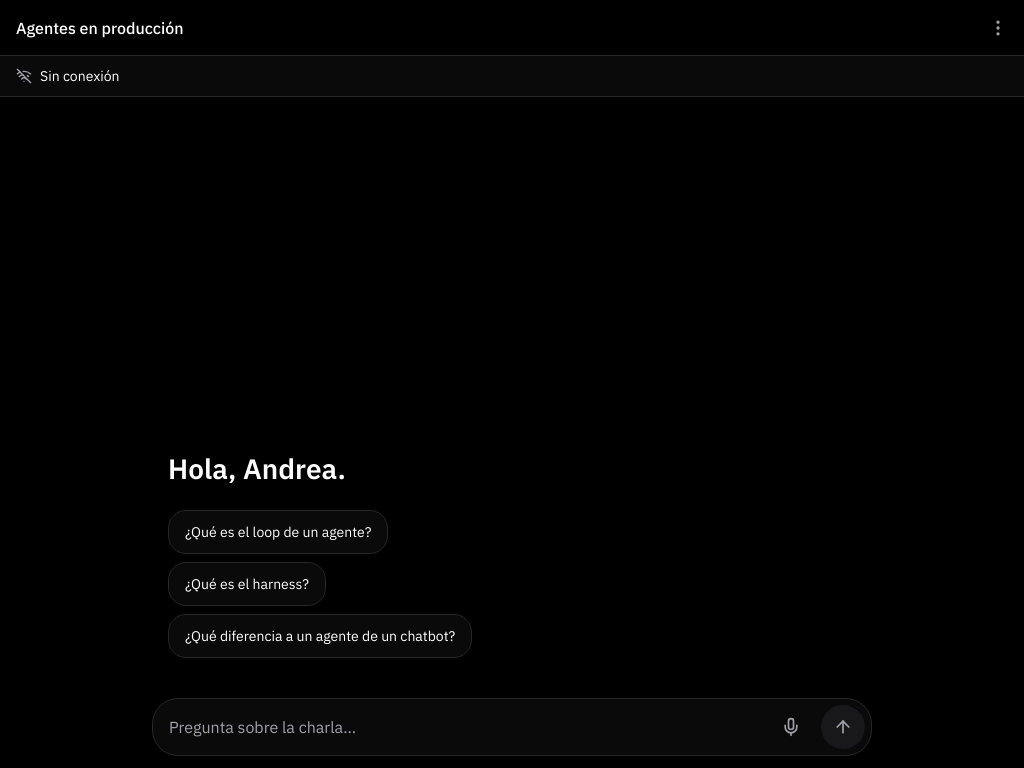
Chat: estados de error › sin conexión → banner; al volver la conexión reenvía la pregunta
Expected: the text "Sin conexión" is shown, [40,66,120,86]
Type "¿Sigues ahí?" into the text box with placeholder "Pregunta sobre la charla…" at (465, 727), box [169,707,761,747]
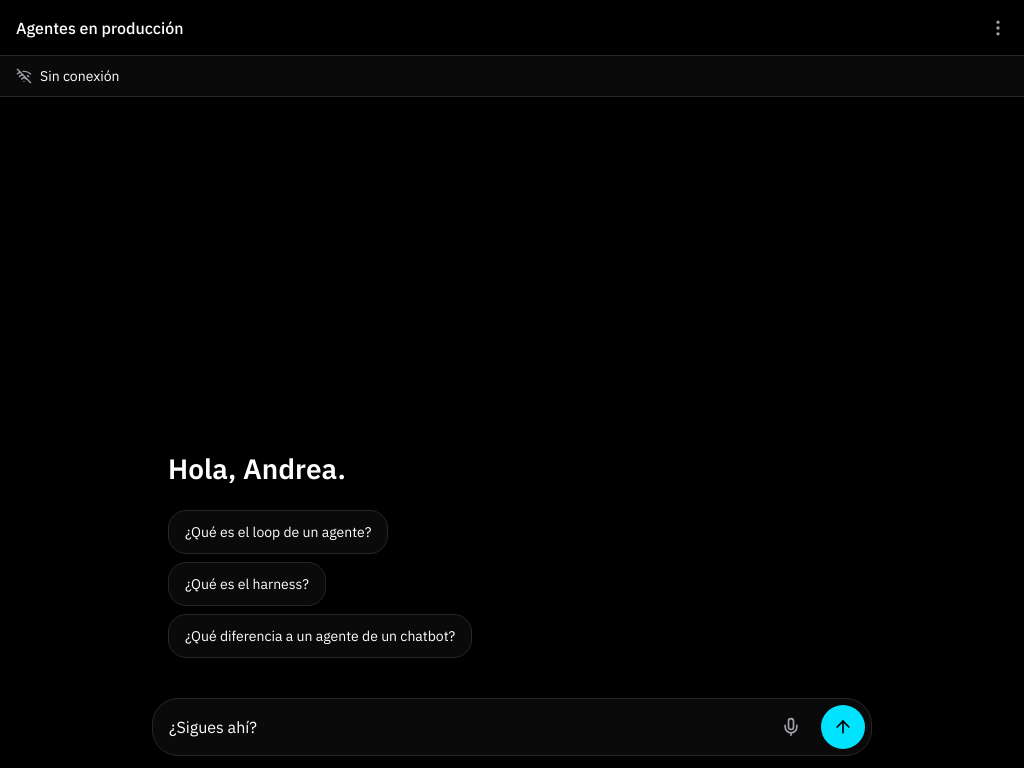
Click the button named "Enviar" at (843, 727), box [821,705,865,749]
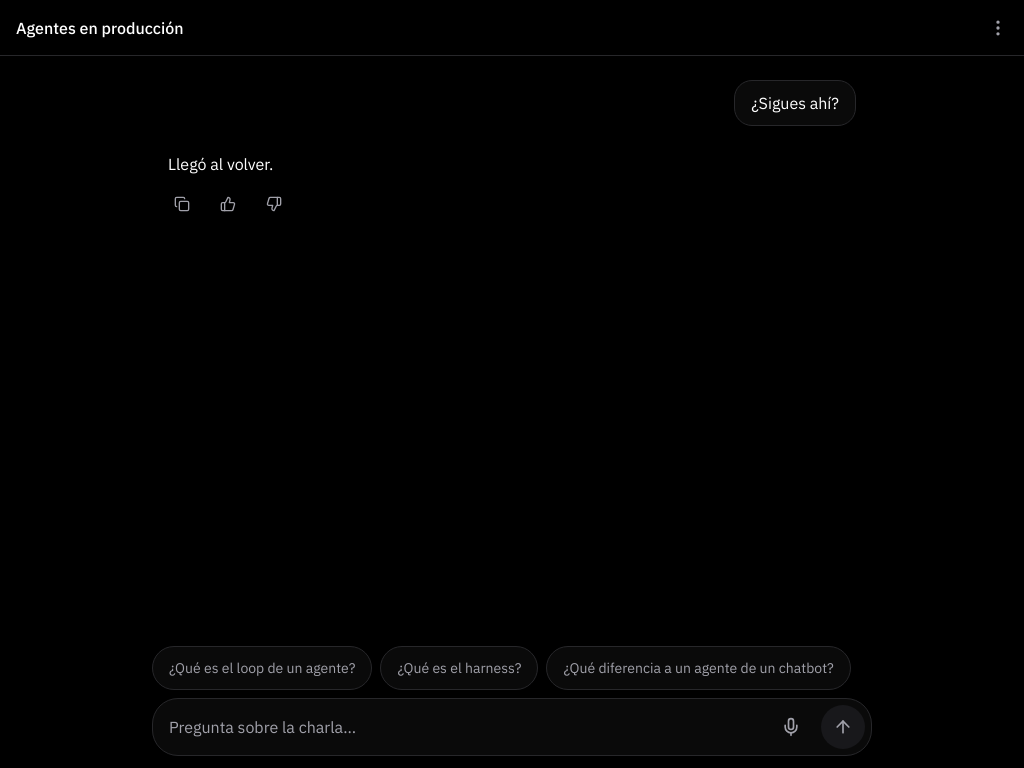
Now the text "Llegó al volver." is shown, box [168,154,273,174]
Now the text "Sin conexión" is gone
